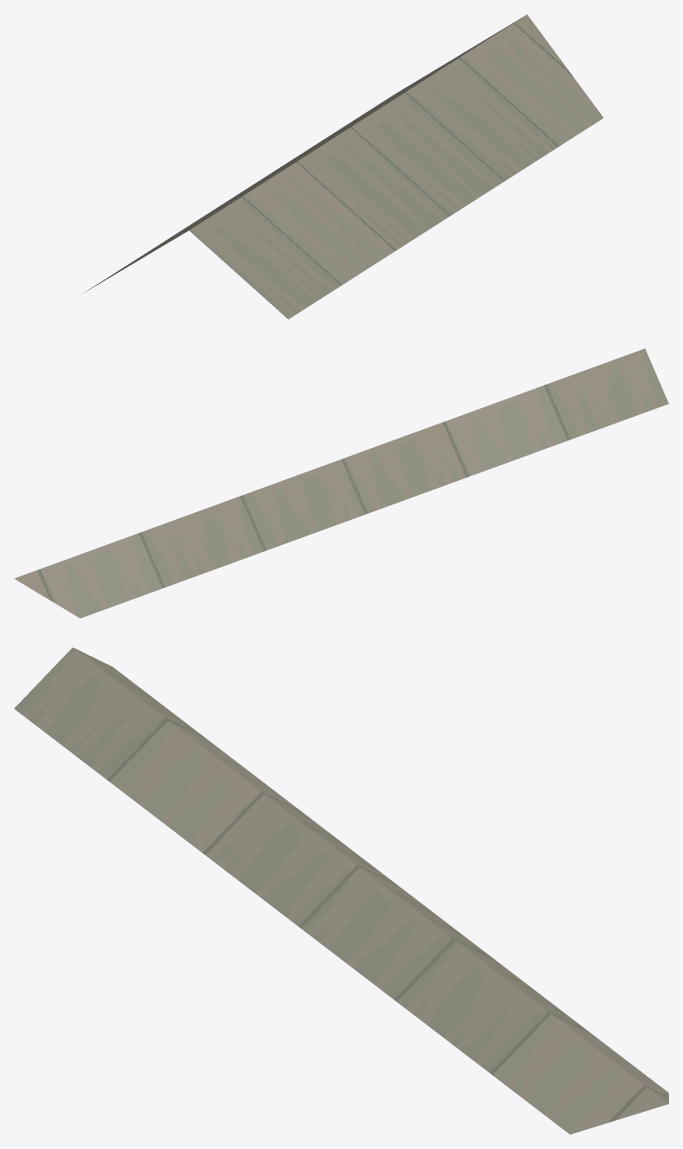
Rendered from kd_stage_135b75_4_94_bounded_piece_2.glb.
3 views of the same model, one above another, from view 1: azimuth 30°, elevation 25°; view 2: azimuth 150°, elevation 25°; view 3: azimuth 270°, elevation 25° (orthographic). The views are drawn at different scales.
Parts seen in each view (by area): view 1: kd_stage_135b75_4_94_bounded_piece_2; view 2: kd_stage_135b75_4_94_bounded_piece_2; view 3: kd_stage_135b75_4_94_bounded_piece_2.
Part boxes in pixels (x1,y1,x2,y2): kd_stage_135b75_4_94_bounded_piece_2: (84, 14, 603, 319); kd_stage_135b75_4_94_bounded_piece_2: (14, 348, 668, 618); kd_stage_135b75_4_94_bounded_piece_2: (14, 647, 668, 1134).
Bounding box in the file's own units: 1.11 × 0.4419 × 1.11.
1 material, 1 textured.
